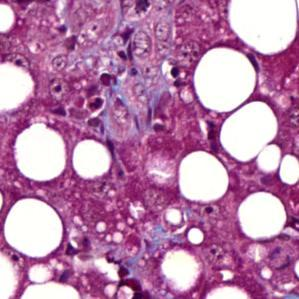steatosis: (195, 45, 252, 112), (177, 153, 232, 203), (238, 192, 289, 240), (72, 138, 116, 181)
